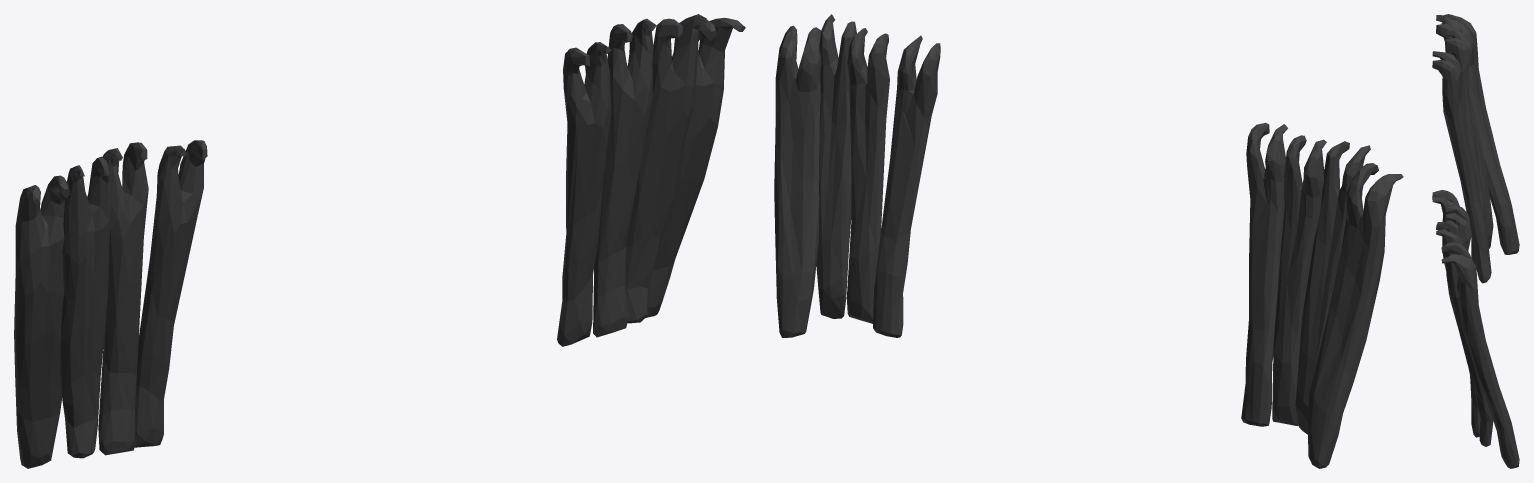
File: m_interossei_FL.glb
The picture shows the model from 3 angles, left to right: view 1: azimuth 30°, elevation 25°; view 2: azimuth 150°, elevation 25°; view 3: azimuth 270°, elevation 25°; orthographic projection. The views are drawn at different scales.
Visible parts, largest first — view 1: m_interossei_FL; view 2: m_interossei_FL; view 3: m_interossei_FL.
Boxes of the visible parts, box(x1,y1,x2,y2) form: m_interossei_FL: box(14, 14, 745, 468); m_interossei_FL: box(774, 14, 1403, 468); m_interossei_FL: box(1432, 14, 1519, 468).
Size of the model in its own units: 0.00436 by 0.00198 by 0.000654.
1 material, 1 textured.
